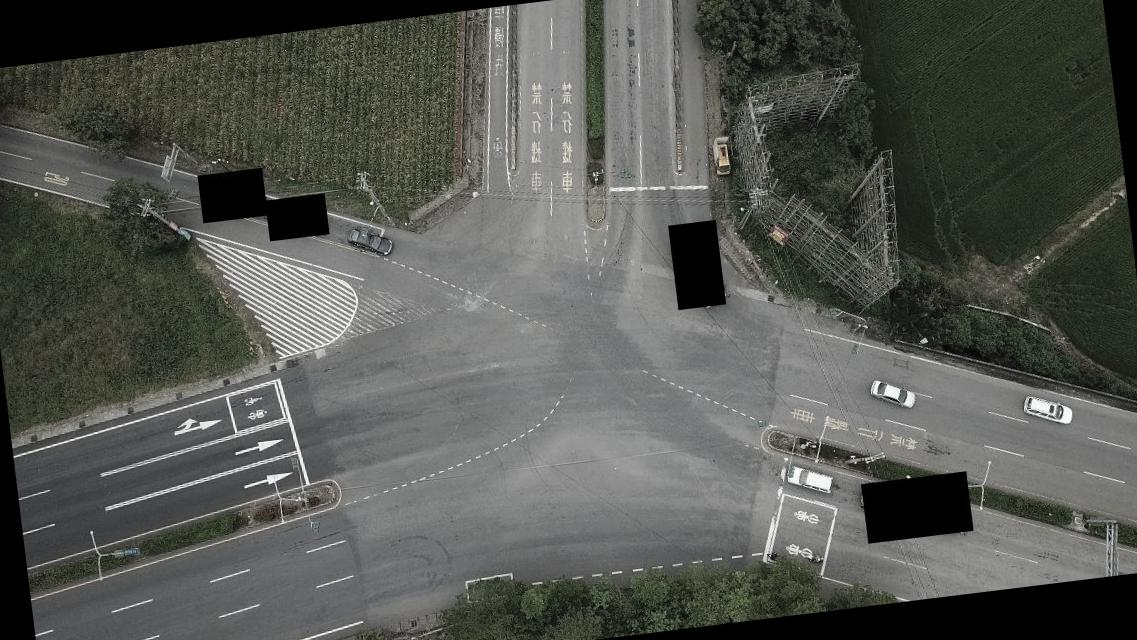vehicle: (781, 455, 835, 499), (1022, 388, 1076, 429), (866, 372, 918, 411), (344, 224, 398, 260), (710, 139, 736, 178)
